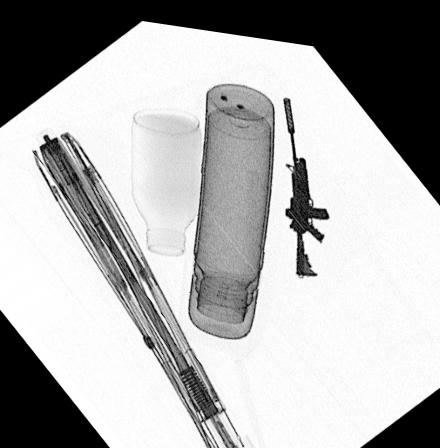Gun: (283, 86, 330, 265)
